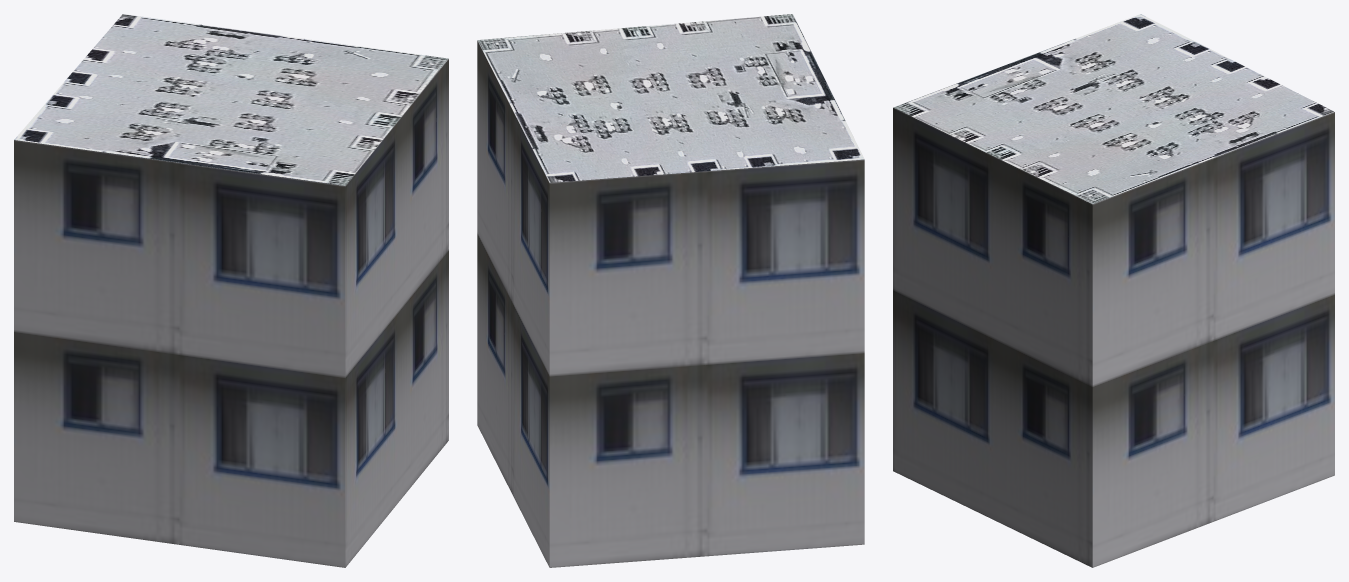
The model's file is ResTex__3358.fbx.
The picture shows the model from 3 angles, left to right: view 1: azimuth 30°, elevation 25°; view 2: azimuth 150°, elevation 25°; view 3: azimuth 270°, elevation 25°; orthographic projection. The views are drawn at different scales.
Visible parts, largest first — view 1: CityEngineMaterial_9_m, CityEngineMaterial_m; view 2: CityEngineMaterial_9_m, CityEngineMaterial_m; view 3: CityEngineMaterial_9_m, CityEngineMaterial_m.
Part boxes in pixels (box(x1,y1,x2,y2)): CityEngineMaterial_9_m: box(14, 59, 448, 567); CityEngineMaterial_m: box(14, 14, 448, 185); CityEngineMaterial_9_m: box(477, 41, 864, 567); CityEngineMaterial_m: box(477, 14, 864, 182); CityEngineMaterial_9_m: box(893, 107, 1334, 567); CityEngineMaterial_m: box(893, 14, 1334, 204).
Size of the model in its own units: 6.73 by 6 by 6.6.
Materials: 2 (2 with a texture image).
